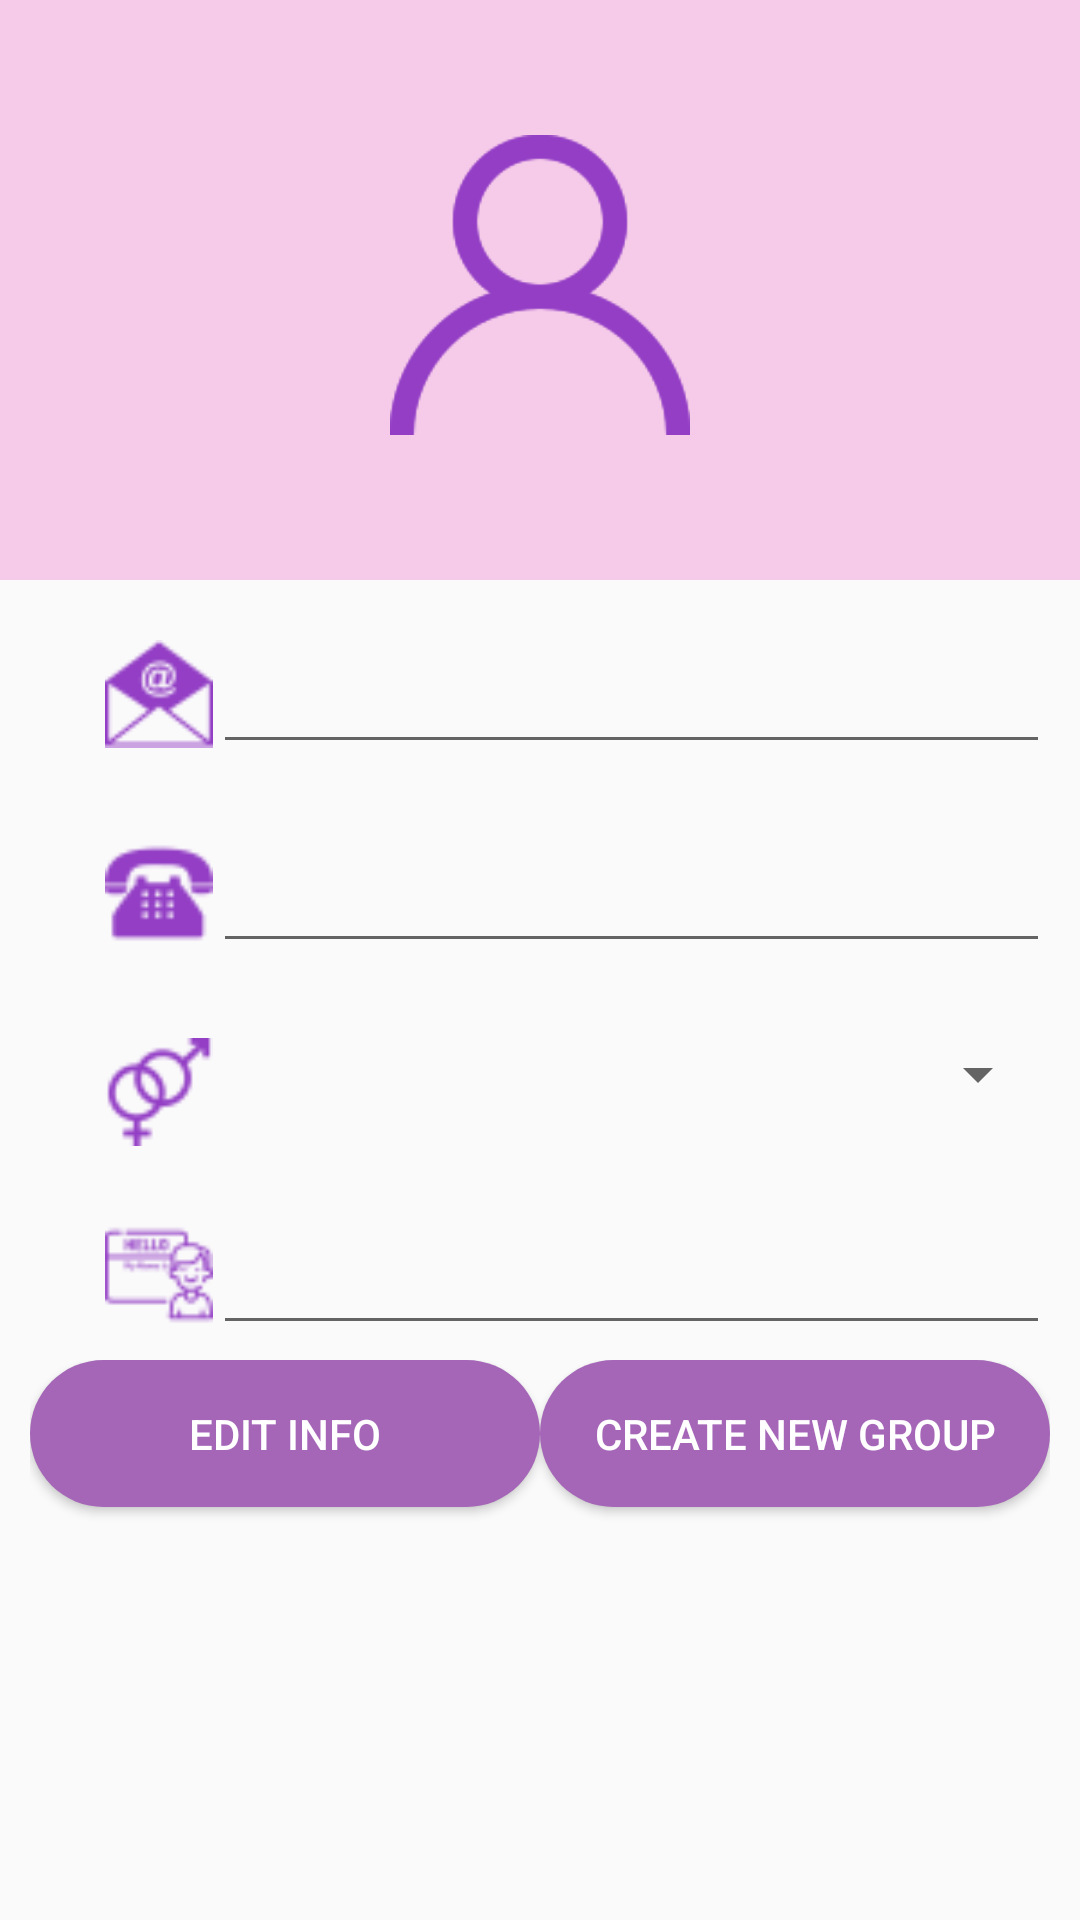

Where to tap for icons on this 1080x1920 app screen, as [x,y]:
email: [159,694]
gender: [159,1092]
phone: [159,893]
user: [540,285]
